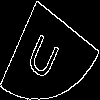U: (25, 24, 65, 83)
